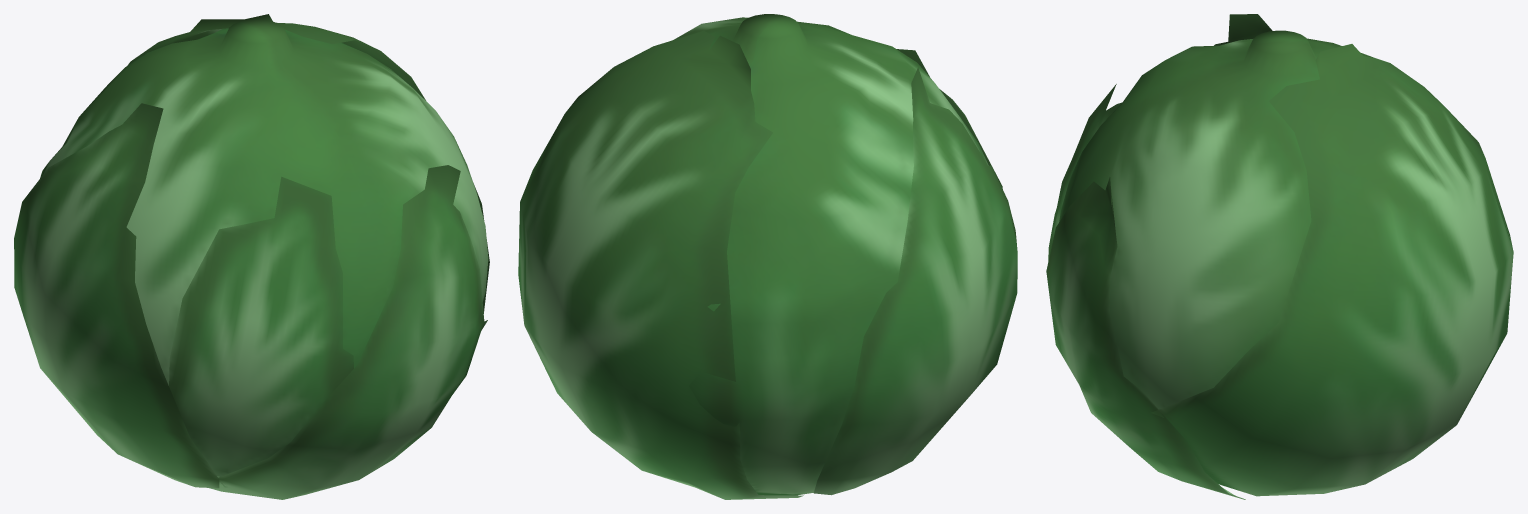
The model's file is ING_LettuceHead_V02.fbx.
The picture shows the model from 3 angles, left to right: view 1: azimuth 30°, elevation 25°; view 2: azimuth 150°, elevation 25°; view 3: azimuth 270°, elevation 25°; orthographic projection. The views are drawn at different scales.
Visible parts, largest first — view 1: Lettuce_Head; view 2: Lettuce_Head; view 3: Lettuce_Head.
Boxes of the visible parts, x1,y1,x2,y2 form: Lettuce_Head: (14, 14, 489, 499); Lettuce_Head: (518, 14, 1017, 499); Lettuce_Head: (1046, 14, 1513, 499).
Bounding box in the file's own units: 43.62 × 44.2 × 42.6.
